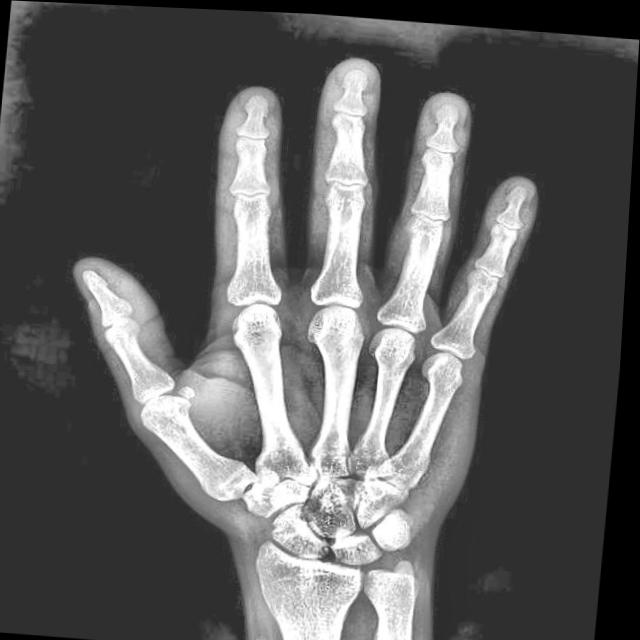fracture: (112, 323, 136, 342)
